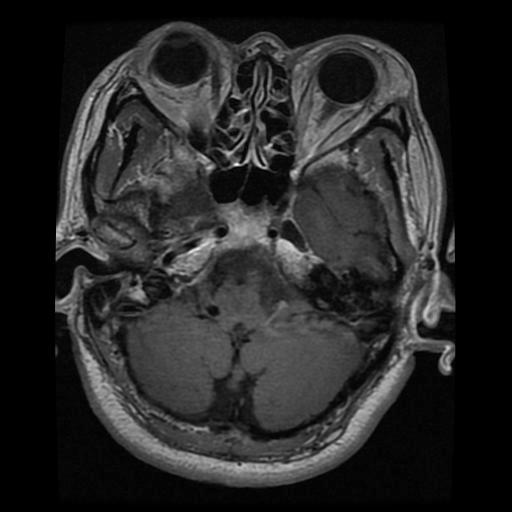Tumour-Pituitary: (206, 203, 293, 259)
